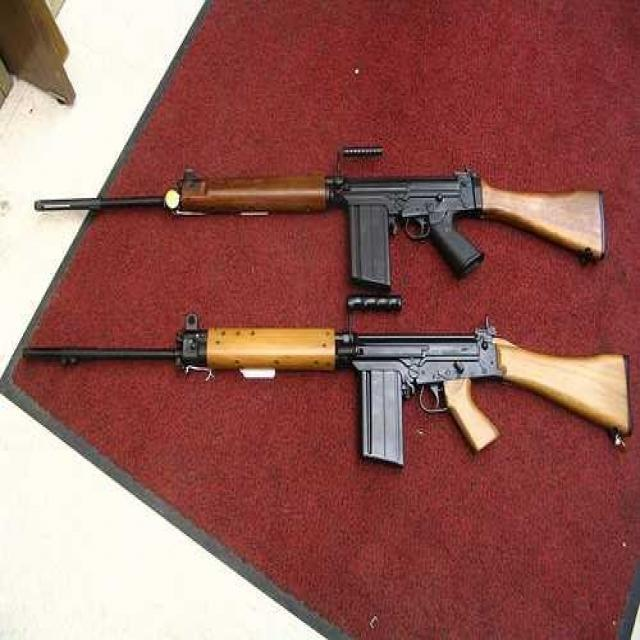weapon: (12, 140, 614, 309), (13, 312, 640, 464)
